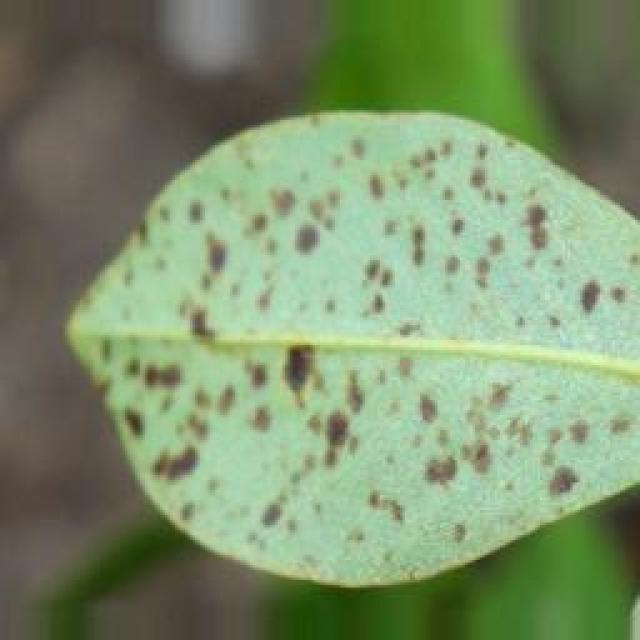Whitefly: (62, 104, 640, 539)
